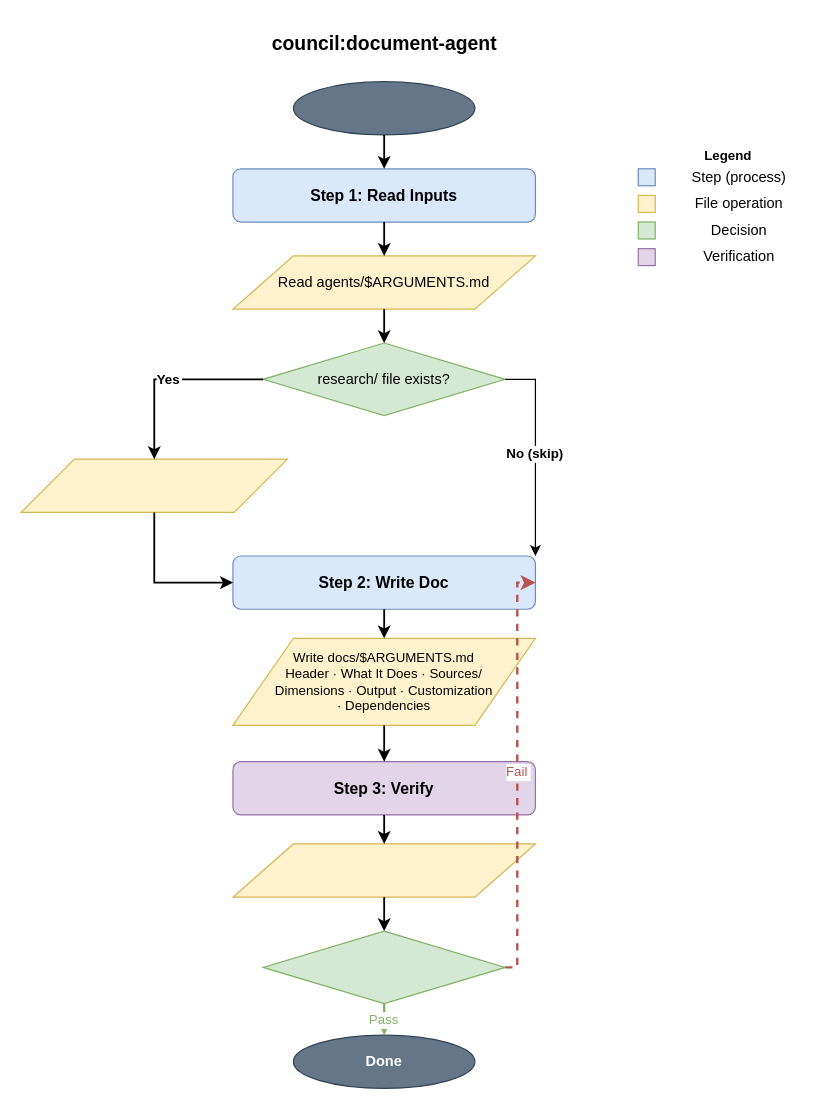
The diagram is 839 pixels wide and 1110 high, and some of its shapes have lost their labels. The box of each missing label's shape, as (x1, y1, x2, y2) in pixels:
All checks pass?: (262, 930, 505, 1004)
Read back docs/$ARGUMENTS.md: (232, 843, 535, 897)
Read research/$ARGUMENTS.md: (20, 458, 287, 512)
Start: (292, 80, 475, 135)
